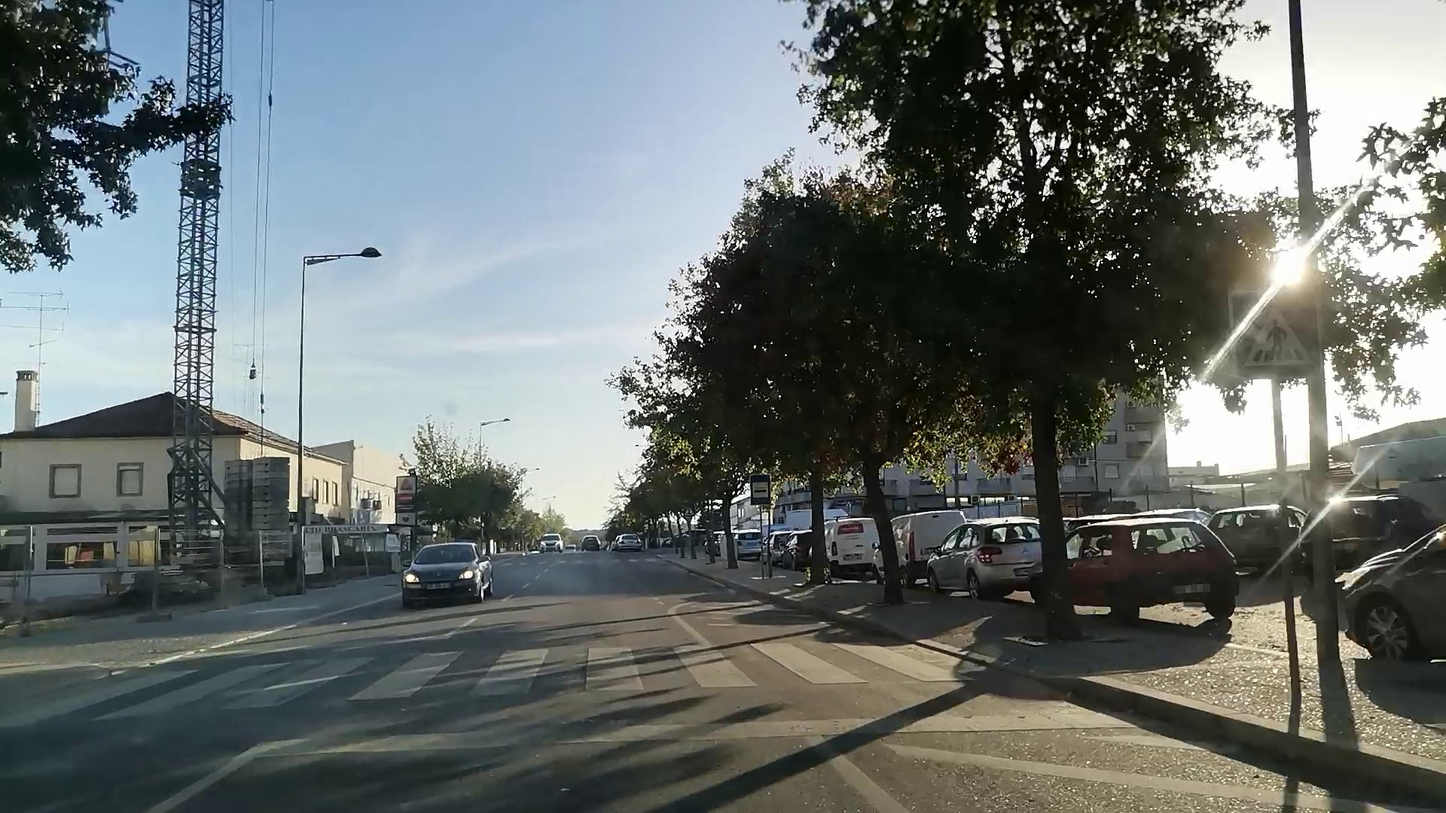Stairs: (44, 641, 989, 738)
